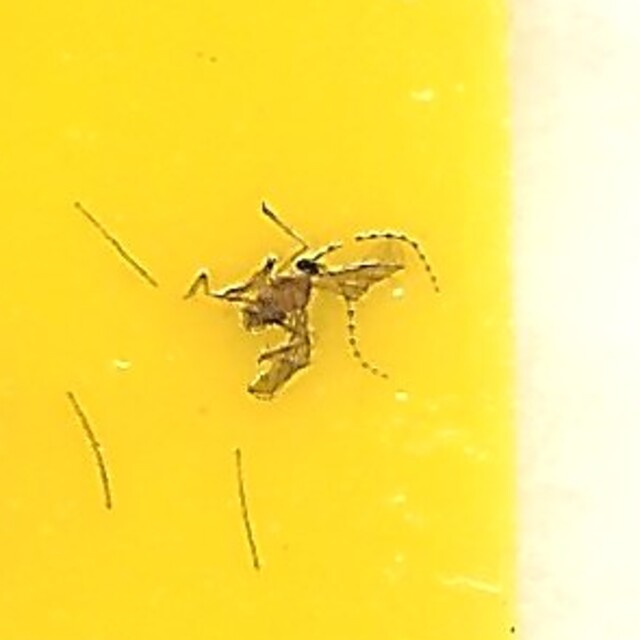Nematocera: (217, 215, 423, 425)
